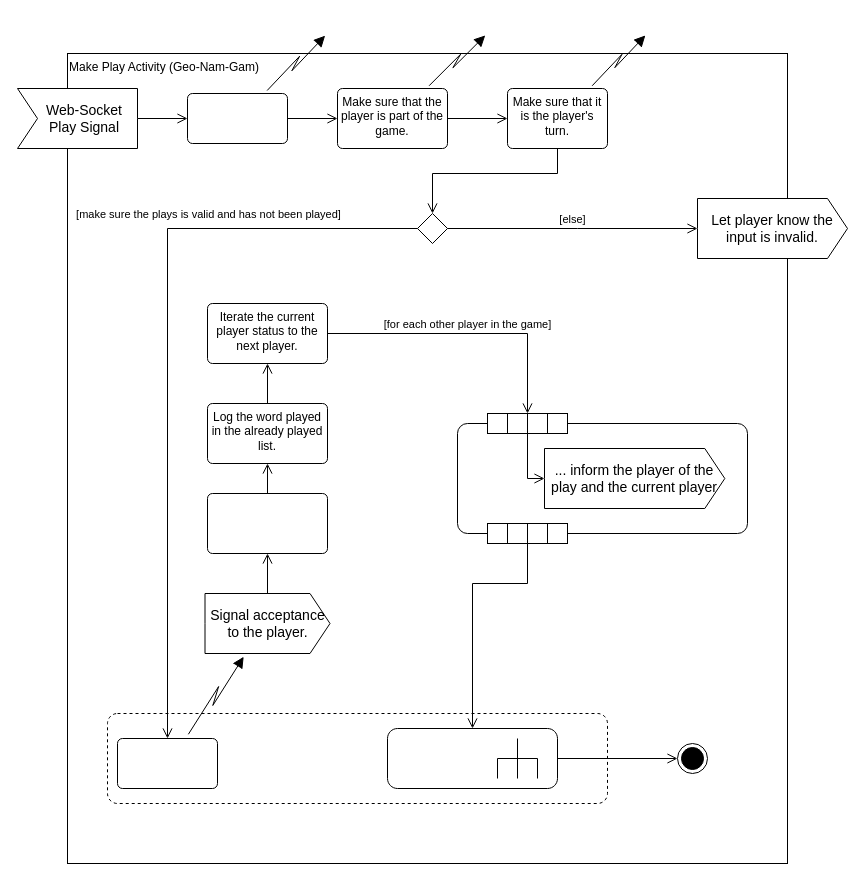
Some shapes in this 865 by 881 pixel diagram are drawn without their labels. The centre of each missing label's shape, as x and y in pixels:
"Determine the play as good." belongs at pixel 167 763.
"Determine the player ID." belongs at pixel 237 118.
"Make the word from the play the new current play." belongs at pixel 267 523.
"Playout Next Turn" belongs at pixel 472 758.
